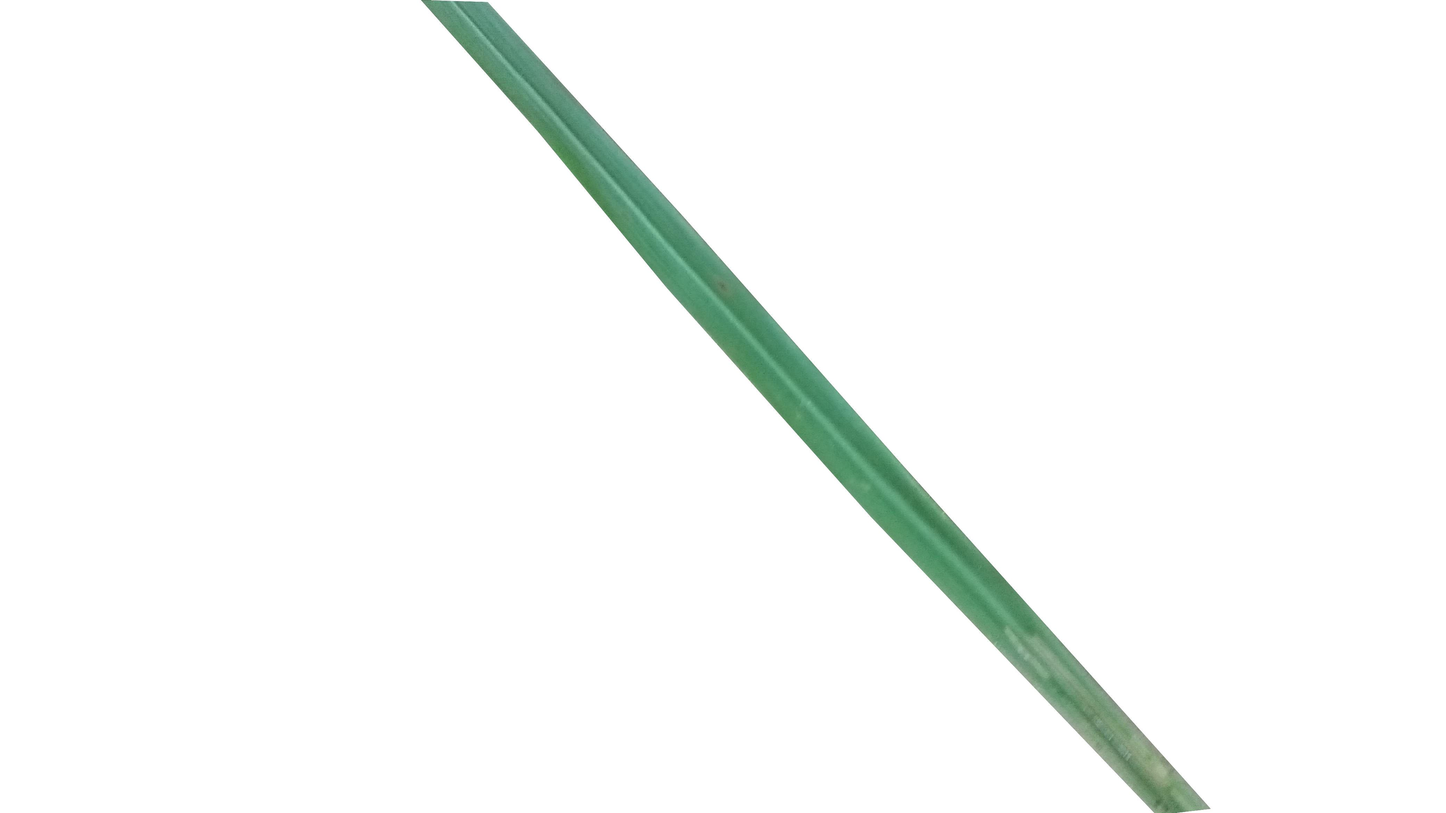Brown spot: (709, 272, 735, 302)
